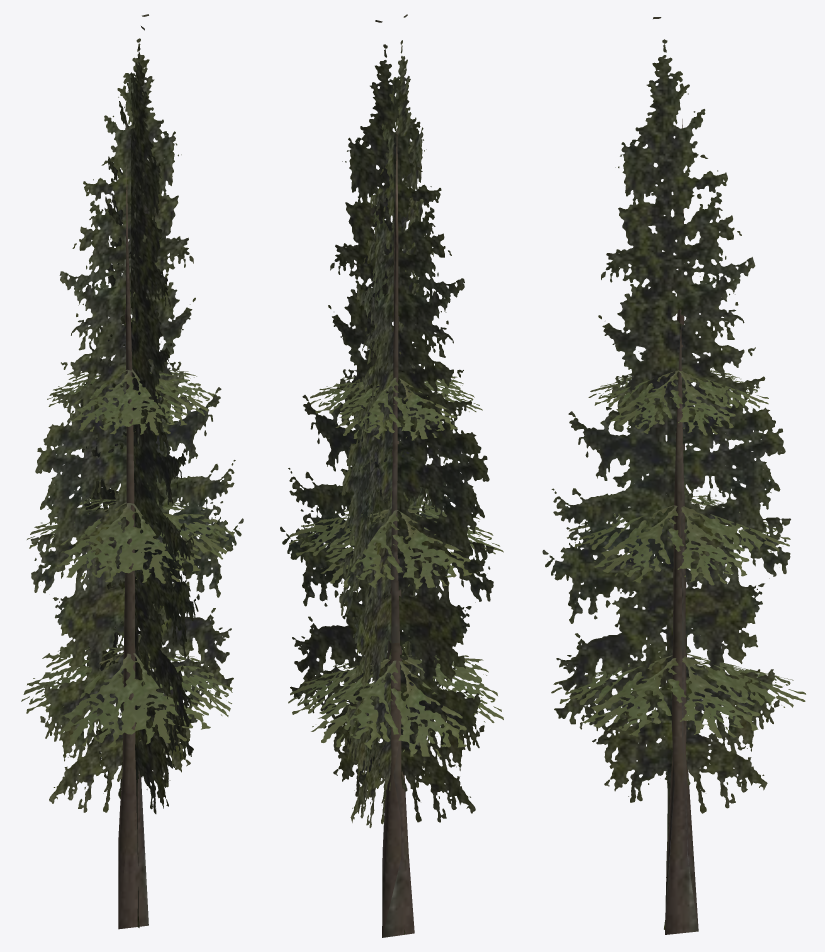
File: Background_Tree_Atlas_003_alt.glb
3 views of the same model, side by side, from view 1: azimuth 30°, elevation 25°; view 2: azimuth 150°, elevation 25°; view 3: azimuth 270°, elevation 25° (orthographic).
Visible parts, largest first — view 1: Background_Tree_Atlas.003; view 2: Background_Tree_Atlas.003; view 3: Background_Tree_Atlas.003.
Boxes of the visible parts, <box> form: Background_Tree_Atlas.003: <box>21,14,243,929</box>; Background_Tree_Atlas.003: <box>280,14,503,937</box>; Background_Tree_Atlas.003: <box>542,17,805,934</box>.
Size of the model in its own units: 669 by 2601 by 705.
1 material, 1 textured.
